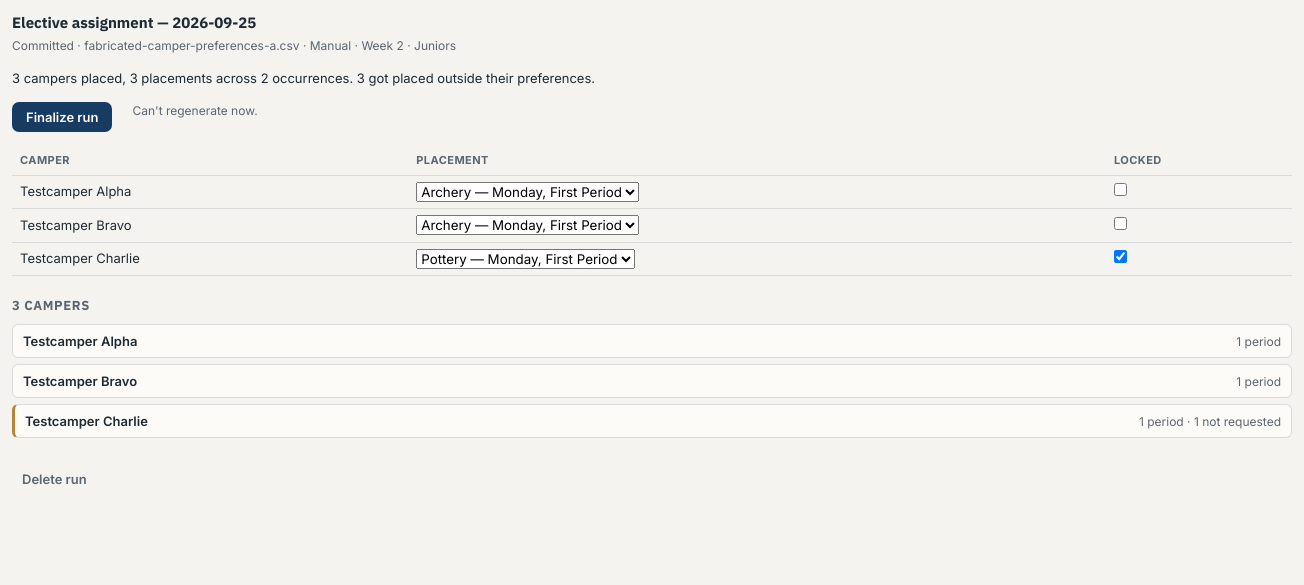
Test: T250 A1 — Finalize run › a REAL (no-.message) OUTER_RESOURCE_CONFLICT finding names the location, day/period, and colliding activities — never the raw kind code
Step 1. Click the button "Finalize run" → (62, 117), box [12,102,112,132]
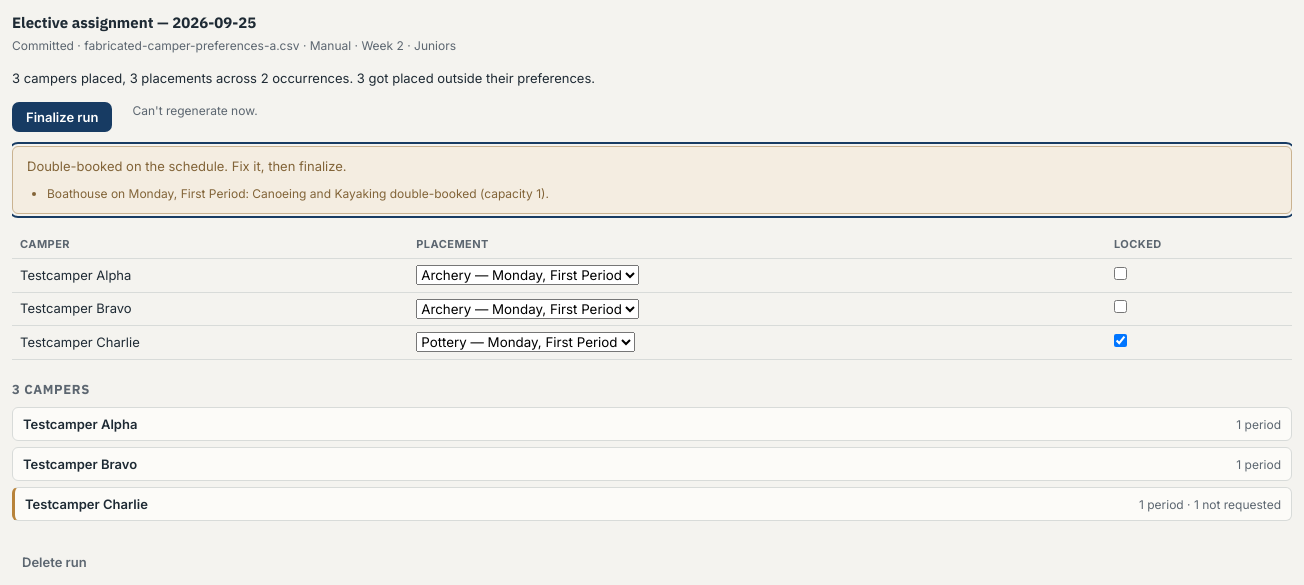
Check: the message with test id "run-state-finalize-refusal" shows "Boathouse", box [47,186,549,200]
Check: the message with test id "run-state-finalize-refusal" shows "Monday", box [47,186,549,200]
Check: the message with test id "run-state-finalize-refusal" shows "Canoeing", box [47,186,549,200]
